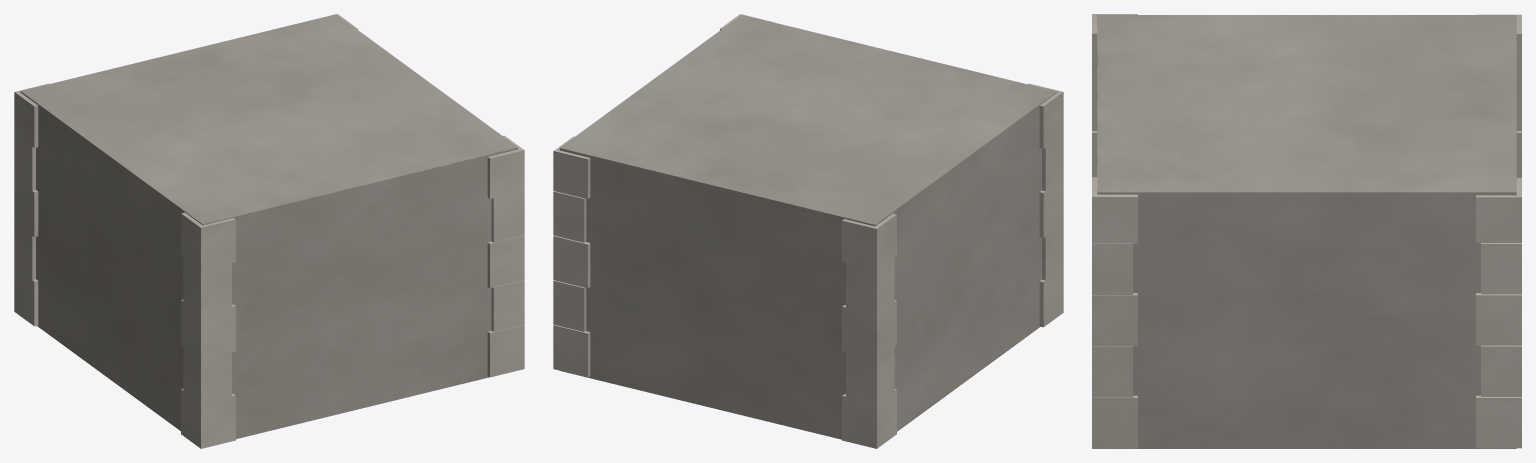
The model's file is med_plinth.glb.
The picture shows the model from 3 angles, left to right: view 1: azimuth 30°, elevation 25°; view 2: azimuth 150°, elevation 25°; view 3: azimuth 270°, elevation 25°; orthographic projection. The views are drawn at different scales.
Parts seen in each view (by area): view 1: med_plinth; view 2: med_plinth; view 3: med_plinth.
Part boxes in pixels (<box>): med_plinth: <box>14,14,524,448</box>; med_plinth: <box>553,14,1063,448</box>; med_plinth: <box>1092,14,1521,448</box>.
Bounding box in the file's own units: 4.1 × 2.7 × 4.1.
1 material, 1 textured.
